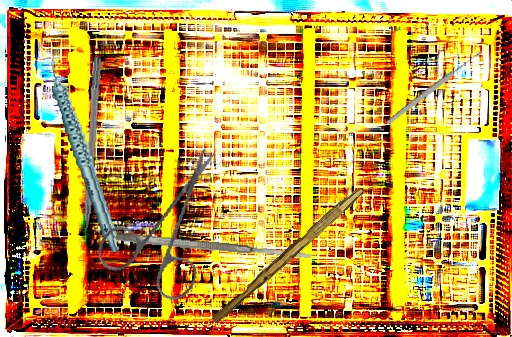Handpiece: (48, 45, 119, 256)
Iris Scissors: (77, 145, 252, 318)
Pusher: (77, 55, 103, 258)
Scalpel Handle: (210, 182, 365, 328)
Spatula Surgical: (115, 230, 313, 263)
Surgical Spoon: (384, 48, 485, 127)
